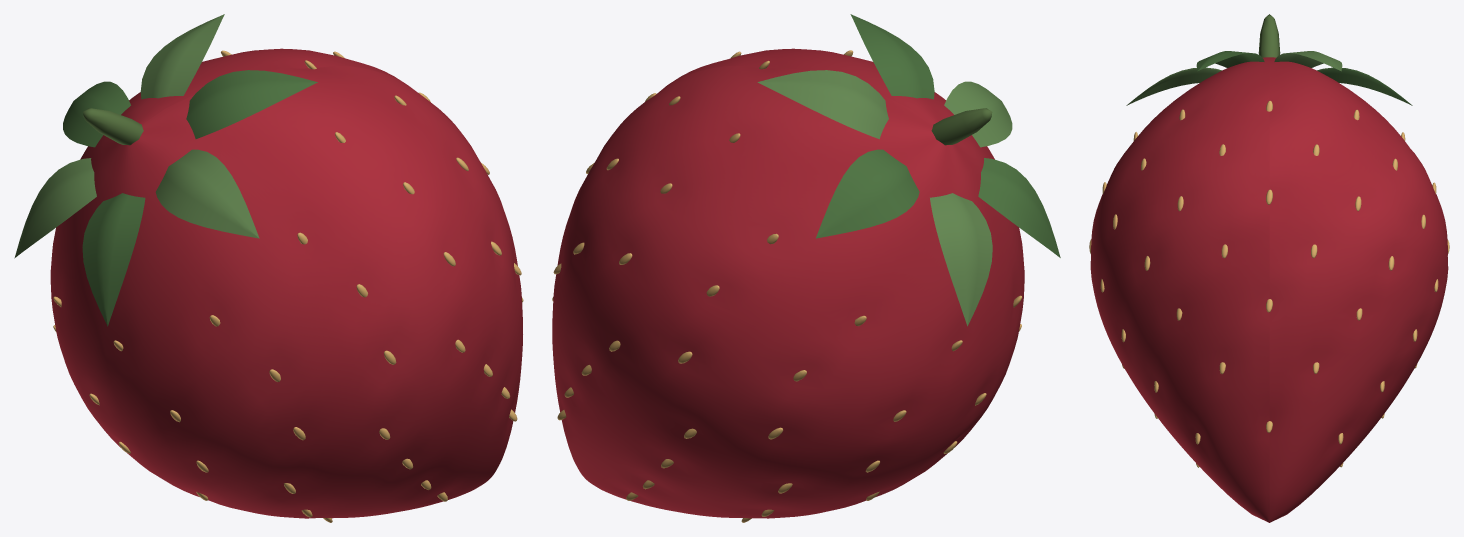
Rendered from strawberry.glb.
3 views of the same model, side by side, from view 1: azimuth 30°, elevation 25°; view 2: azimuth 150°, elevation 25°; view 3: azimuth 270°, elevation 25° (orthographic). The views are drawn at different scales.
Visible parts, largest first — view 1: Strawberry; view 2: Strawberry; view 3: Strawberry.
Boxes of the visible parts, x1,y1,x2,y2 form: Strawberry: (14, 14, 523, 522); Strawberry: (552, 14, 1060, 522); Strawberry: (1089, 14, 1449, 522).
Bounding box in the file's own units: 0.1845 × 0.1935 × 0.1677.
